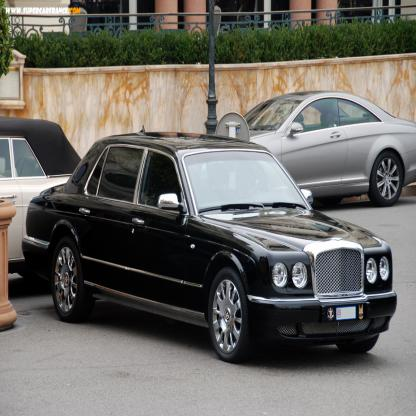Vehicle: (21, 124, 400, 364)
